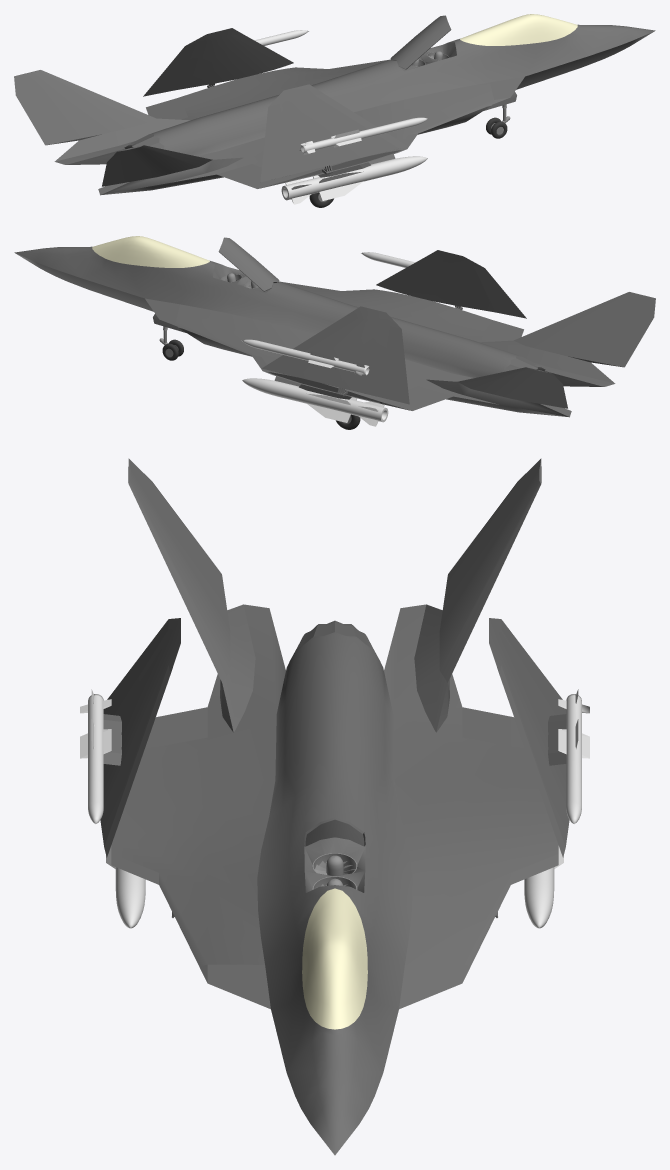
File: e58_short.fbx
3 renders of one model, top to bottom at view 1: azimuth 30°, elevation 25°; view 2: azimuth 150°, elevation 25°; view 3: azimuth 270°, elevation 25°, orthographic. The views are drawn at different scales.
Parts seen in each view (by area): view 1: FAT BODY, WING BASE, KEEL 22d, WING CONSOLE L.001, WING CONSOLE L, KEELBASE, X-58USHKE.000, CANOPY, FAT BODY.001, RVV-SD.007, RVV-SD.005, Изд. 30 Сопло; view 2: FAT BODY, WING BASE, KEEL 22d, WING CONSOLE L, WING CONSOLE L.001, KEELBASE, X-58USHKE.003, CANOPY, FAT BODY.001, RVV-SD.005, RVV-SD.007, Изд. 30 Сопло; view 3: WING BASE, FAT BODY, KEEL 22d, CANOPY, WING CONSOLE L, WING CONSOLE L.001, KEELBASE, RVV-SD.005, RVV-SD.007, X-58USHKE.003, X-58USHKE.000, FAT BODY.001.
Part boxes in pixels (x1,y1,x2,y2): FAT BODY: (66, 24, 655, 194); WING BASE: (55, 59, 524, 194); KEEL 22d: (14, 70, 212, 186); WING CONSOLE L.001: (260, 84, 407, 182); WING CONSOLE L: (143, 28, 293, 96); KEELBASE: (55, 118, 243, 194); X-58USHKE.000: (281, 156, 427, 204); CANOPY: (460, 14, 577, 45); FAT BODY.001: (390, 15, 451, 69); RVV-SD.007: (300, 117, 428, 154); RVV-SD.005: (254, 30, 308, 45); Изд. 30 Сопло: (124, 134, 164, 149); FAT BODY: (14, 246, 603, 416); WING BASE: (145, 281, 614, 416); KEEL 22d: (457, 292, 655, 408); WING CONSOLE L: (262, 306, 409, 404); WING CONSOLE L.001: (376, 250, 526, 318); KEELBASE: (426, 340, 614, 416); X-58USHKE.003: (242, 378, 388, 426); CANOPY: (92, 236, 209, 267); FAT BODY.001: (218, 237, 279, 291); RVV-SD.005: (241, 339, 369, 376); RVV-SD.007: (361, 252, 415, 267); Изд. 30 Сопло: (505, 356, 545, 371); WING BASE: (111, 604, 558, 1009); FAT BODY: (257, 632, 412, 1155); KEEL 22d: (128, 458, 541, 682); CANOPY: (302, 888, 367, 1029); WING CONSOLE L: (489, 618, 569, 857); WING CONSOLE L.001: (100, 618, 180, 857); KEELBASE: (220, 604, 449, 732); RVV-SD.005: (558, 689, 589, 823); RVV-SD.007: (80, 689, 111, 823); X-58USHKE.003: (524, 846, 563, 928); X-58USHKE.000: (106, 846, 145, 928); FAT BODY.001: (304, 817, 365, 846).
Bounding box in the file's own units: 1748 × 380 × 649.
